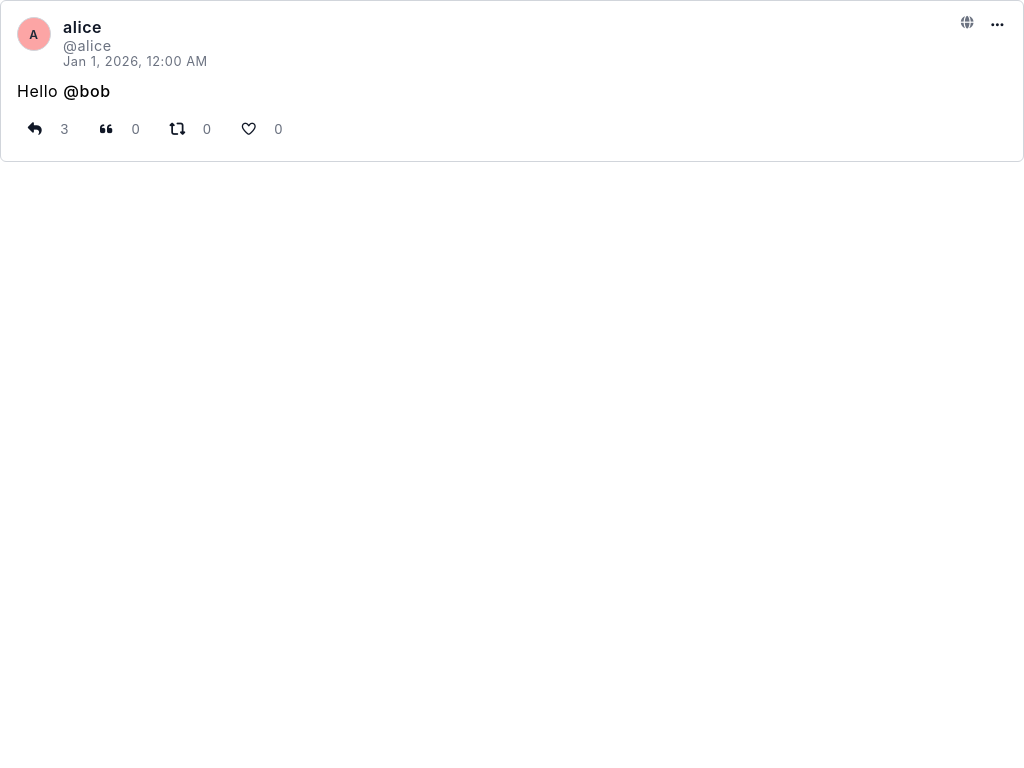
ActivityCard › threads remote replies under their replied-to node
Click the button with class "activity-card__count" showing "3": point(64, 129) 52,117 -> 76,141
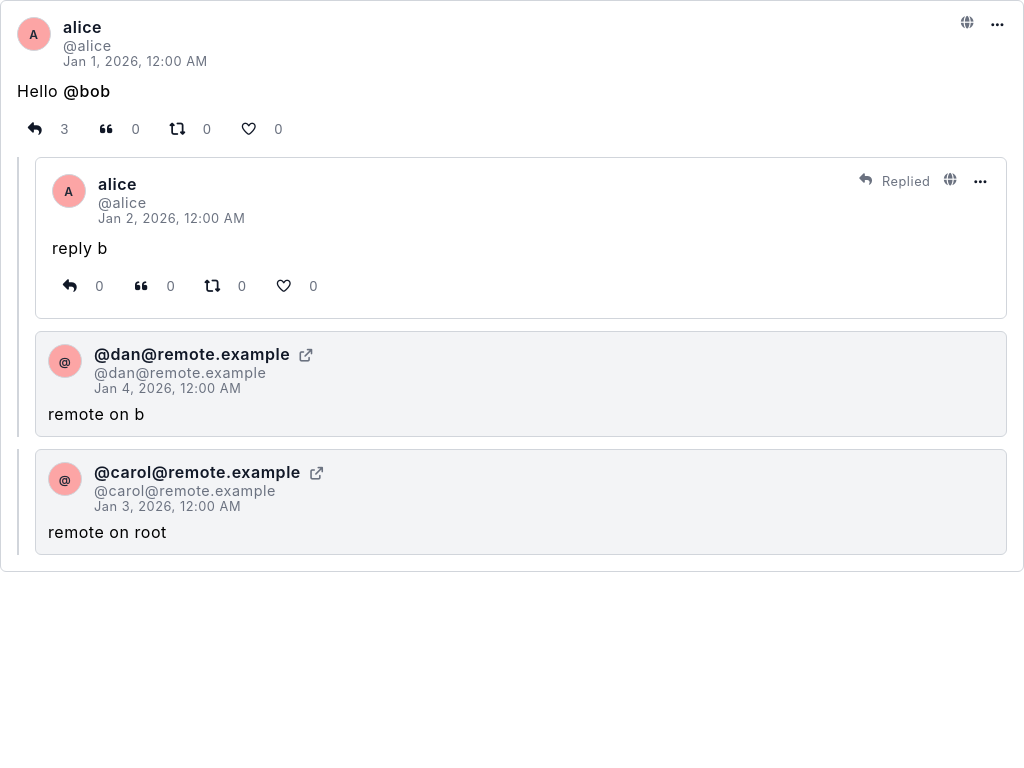
Expected: the number of elements with class "activity-card__thread" is 2, 17,157 -> 1007,437; 17,449 -> 1007,555
Expected: the element with class "activity-card__thread" shows "reply b", 52,238 -> 108,258
Expected: the element with class "activity-card__thread" shows "remote on b", 48,404 -> 145,424
